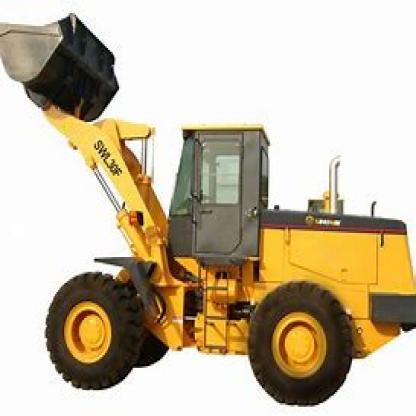bull_dozer/loader/grader: (3, 15, 415, 401)
